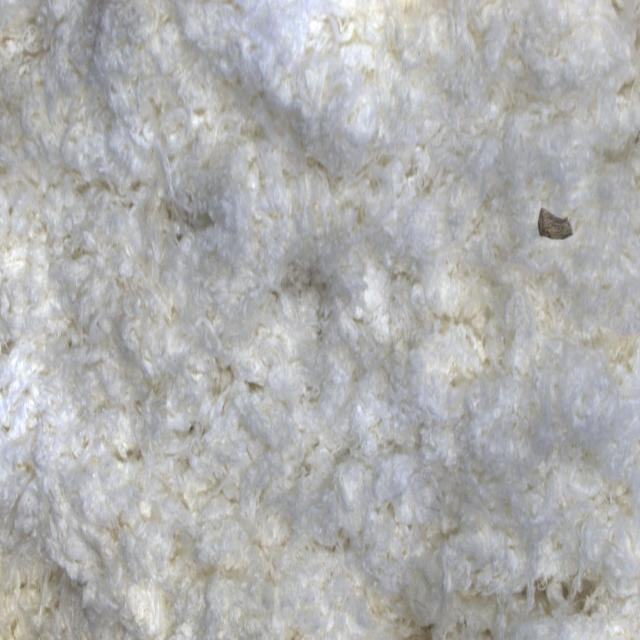dust: (514, 164, 594, 274)
